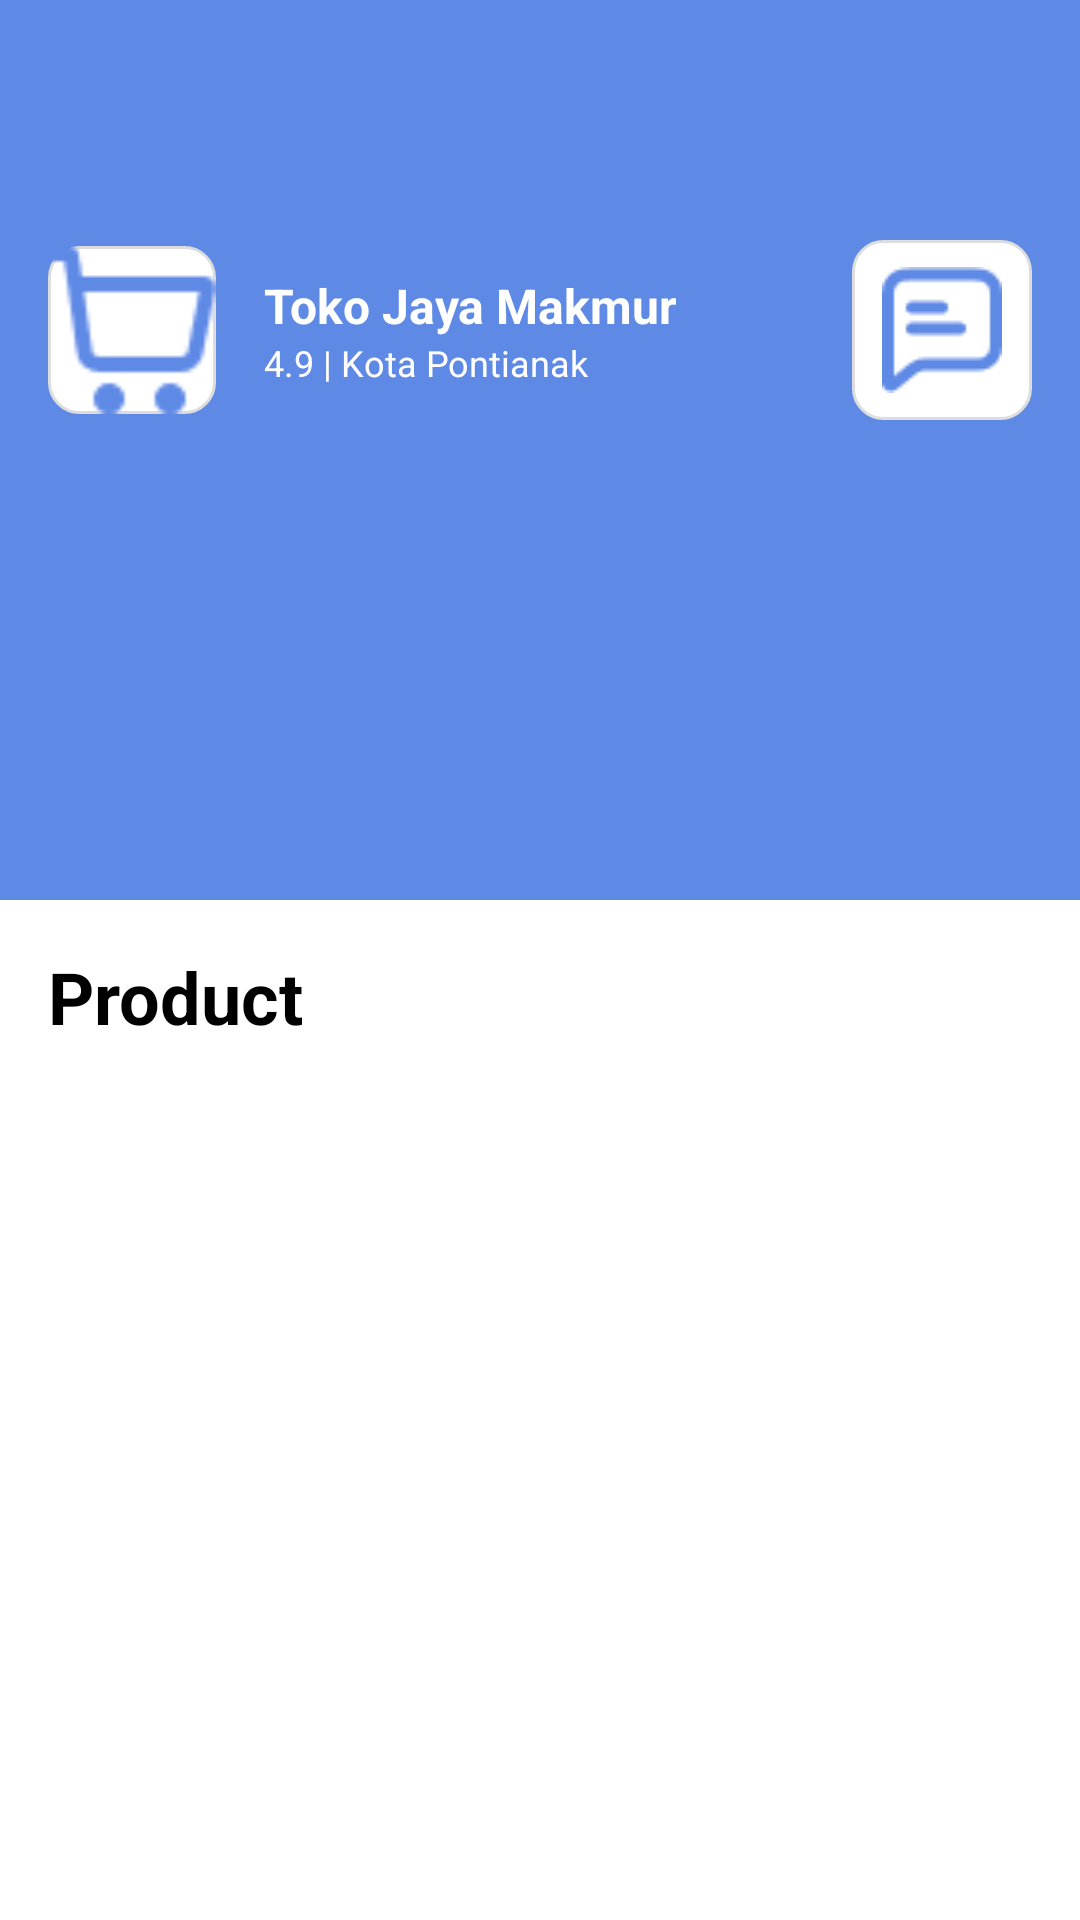

Icons on this 1080*1920 Android screen, each with its box as [x1, y1, x2, y2]:
cart: [48, 246, 216, 414]
chat: [852, 240, 1032, 420]
